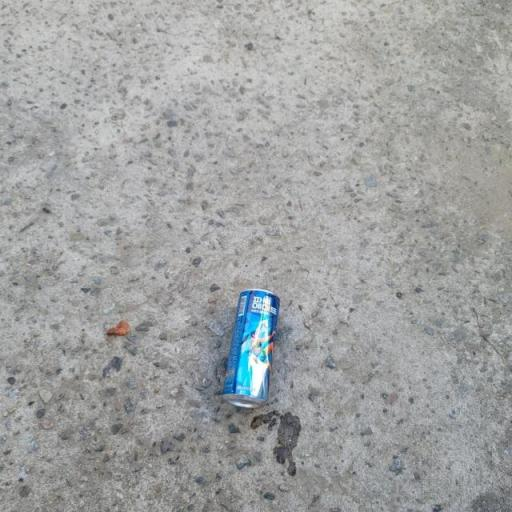metal: (199, 266, 302, 426)
